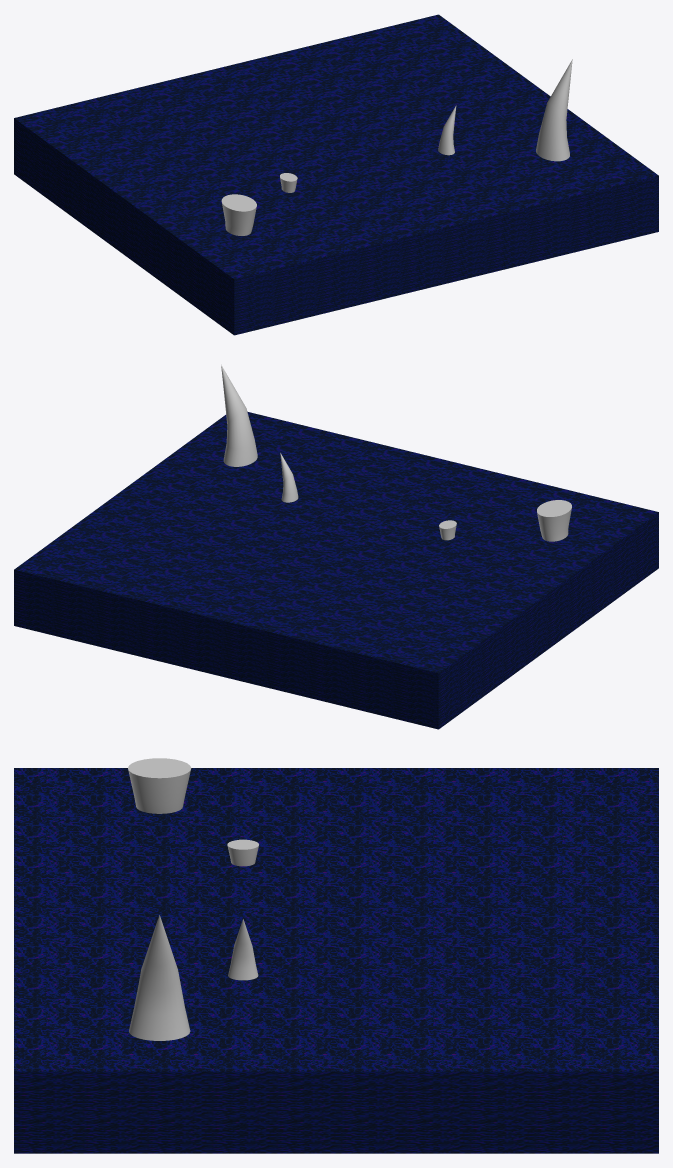
Rendered from stage3.FBX.
3 views of the same model, one above another, from view 1: azimuth 30°, elevation 25°; view 2: azimuth 150°, elevation 25°; view 3: azimuth 270°, elevation 25° (orthographic). The views are drawn at different scales.
Parts seen in each view (by area): view 1: Box024, Cone002, Cone001, Cone004; view 2: Box024, Cone002, Cone001; view 3: Box024, Cone002, Cone001, Cone004, Cone003.
Boxes of the visible parts, x1=… form: Box024: x1=14, y1=14, x2=658, y2=335; Cone002: x1=536, y1=59, x2=572, y2=161; Cone001: x1=221, y1=194, x2=256, y2=235; Cone004: x1=438, y1=105, x2=456, y2=155; Box024: x1=14, y1=411, x2=658, y2=729; Cone002: x1=221, y1=365, x2=257, y2=466; Cone001: x1=537, y1=500, x2=571, y2=541; Box024: x1=14, y1=768, x2=658, y2=1153; Cone002: x1=129, y1=915, x2=190, y2=1040; Cone001: x1=128, y1=758, x2=191, y2=813; Cone004: x1=228, y1=919, x2=258, y2=980; Cone003: x1=227, y1=839, x2=258, y2=866.
Bounding box in the file's own units: 2304 × 2069 × 804.
